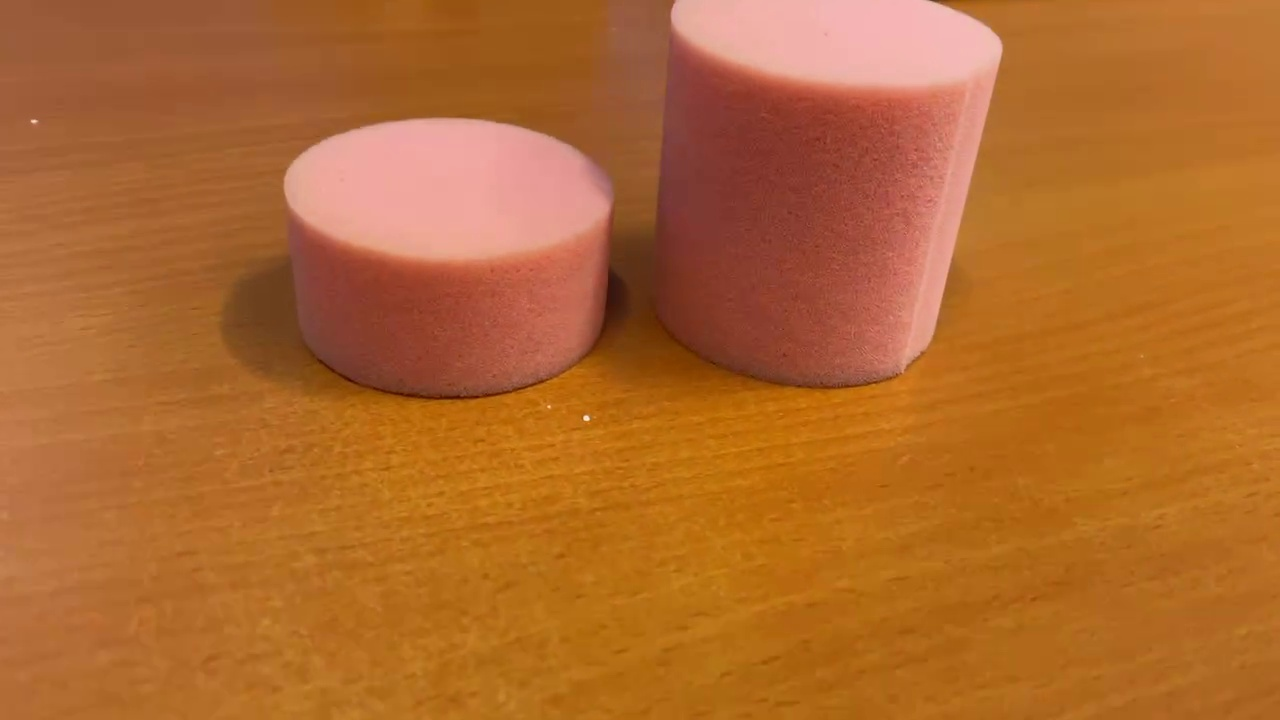Clyinder_short: (274, 112, 619, 402)
Cylinder: (643, 1, 1013, 400)
